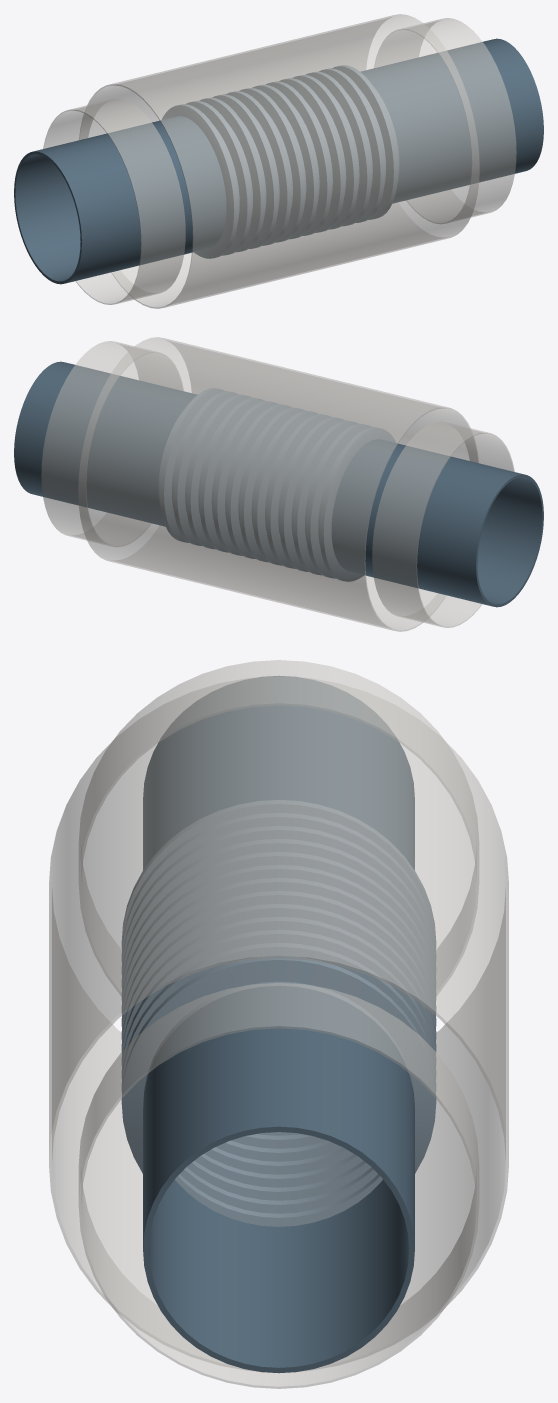
Rendered from ppu-dn300-L1275-D325-k-o550.glb.
3 views of the same model, one above another, from view 1: azimuth 30°, elevation 25°; view 2: azimuth 150°, elevation 25°; view 3: azimuth 270°, elevation 25° (orthographic). The views are drawn at different scales.
Visible parts, largest first — view 1: uslovno_kozhuh_ppu, prokladka_silfon_1, patrubok_1, patrubok_2, uslovno_obolochka_l, uslovno_obolochka_r; view 2: uslovno_kozhuh_ppu, prokladka_silfon_1, patrubok_1, patrubok_2, uslovno_obolochka_l, uslovno_obolochka_r; view 3: uslovno_kozhuh_ppu, patrubok_2, prokladka_silfon_1, uslovno_obolochka_r, patrubok_1, uslovno_obolochka_l.
Part boxes in pixels (x1=…): uslovno_kozhuh_ppu: x1=79, y1=14, x2=479, y2=308; prokladka_silfon_1: x1=162, y1=65, x2=399, y2=258; patrubok_1: x1=14, y1=116, x2=226, y2=284; patrubok_2: x1=360, y1=38, x2=543, y2=203; uslovno_obolochka_l: x1=43, y1=98, x2=185, y2=304; uslovno_obolochka_r: x1=374, y1=18, x2=516, y2=223; uslovno_kozhuh_ppu: x1=78, y1=337, x2=478, y2=631; prokladka_silfon_1: x1=158, y1=388, x2=395, y2=581; patrubok_1: x1=331, y1=439, x2=543, y2=607; patrubok_2: x1=14, y1=361, x2=197, y2=526; uslovno_obolochka_l: x1=372, y1=421, x2=514, y2=627; uslovno_obolochka_r: x1=41, y1=341, x2=183, y2=546; uslovno_kozhuh_ppu: x1=49, y1=676, x2=508, y2=1370; patrubok_2: x1=143, y1=985, x2=414, y2=1373; prokladka_silfon_1: x1=121, y1=800, x2=436, y2=1226; uslovno_obolochka_r: x1=78, y1=983, x2=479, y2=1388; patrubok_1: x1=143, y1=676, x2=414, y2=869; uslovno_obolochka_l: x1=79, y1=660, x2=478, y2=995.
Bounding box in the file's own units: 1275 × 550 × 550.
